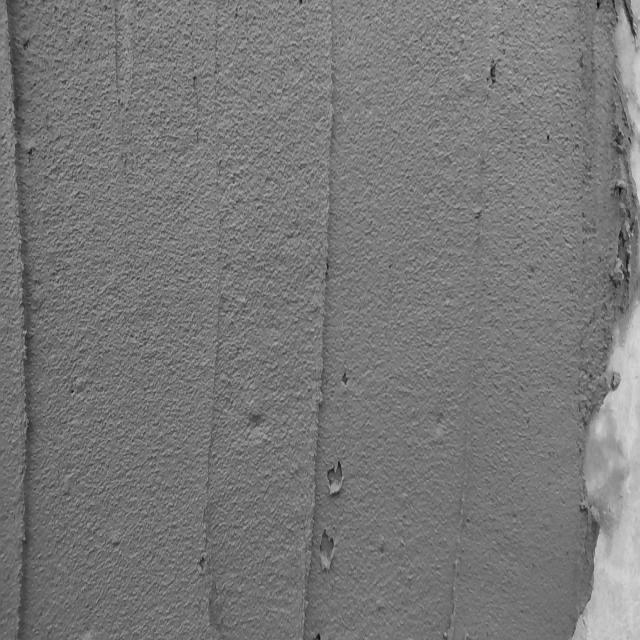trowels marks: (296, 20, 338, 632), (3, 0, 36, 634), (450, 280, 490, 640), (195, 270, 221, 640)
